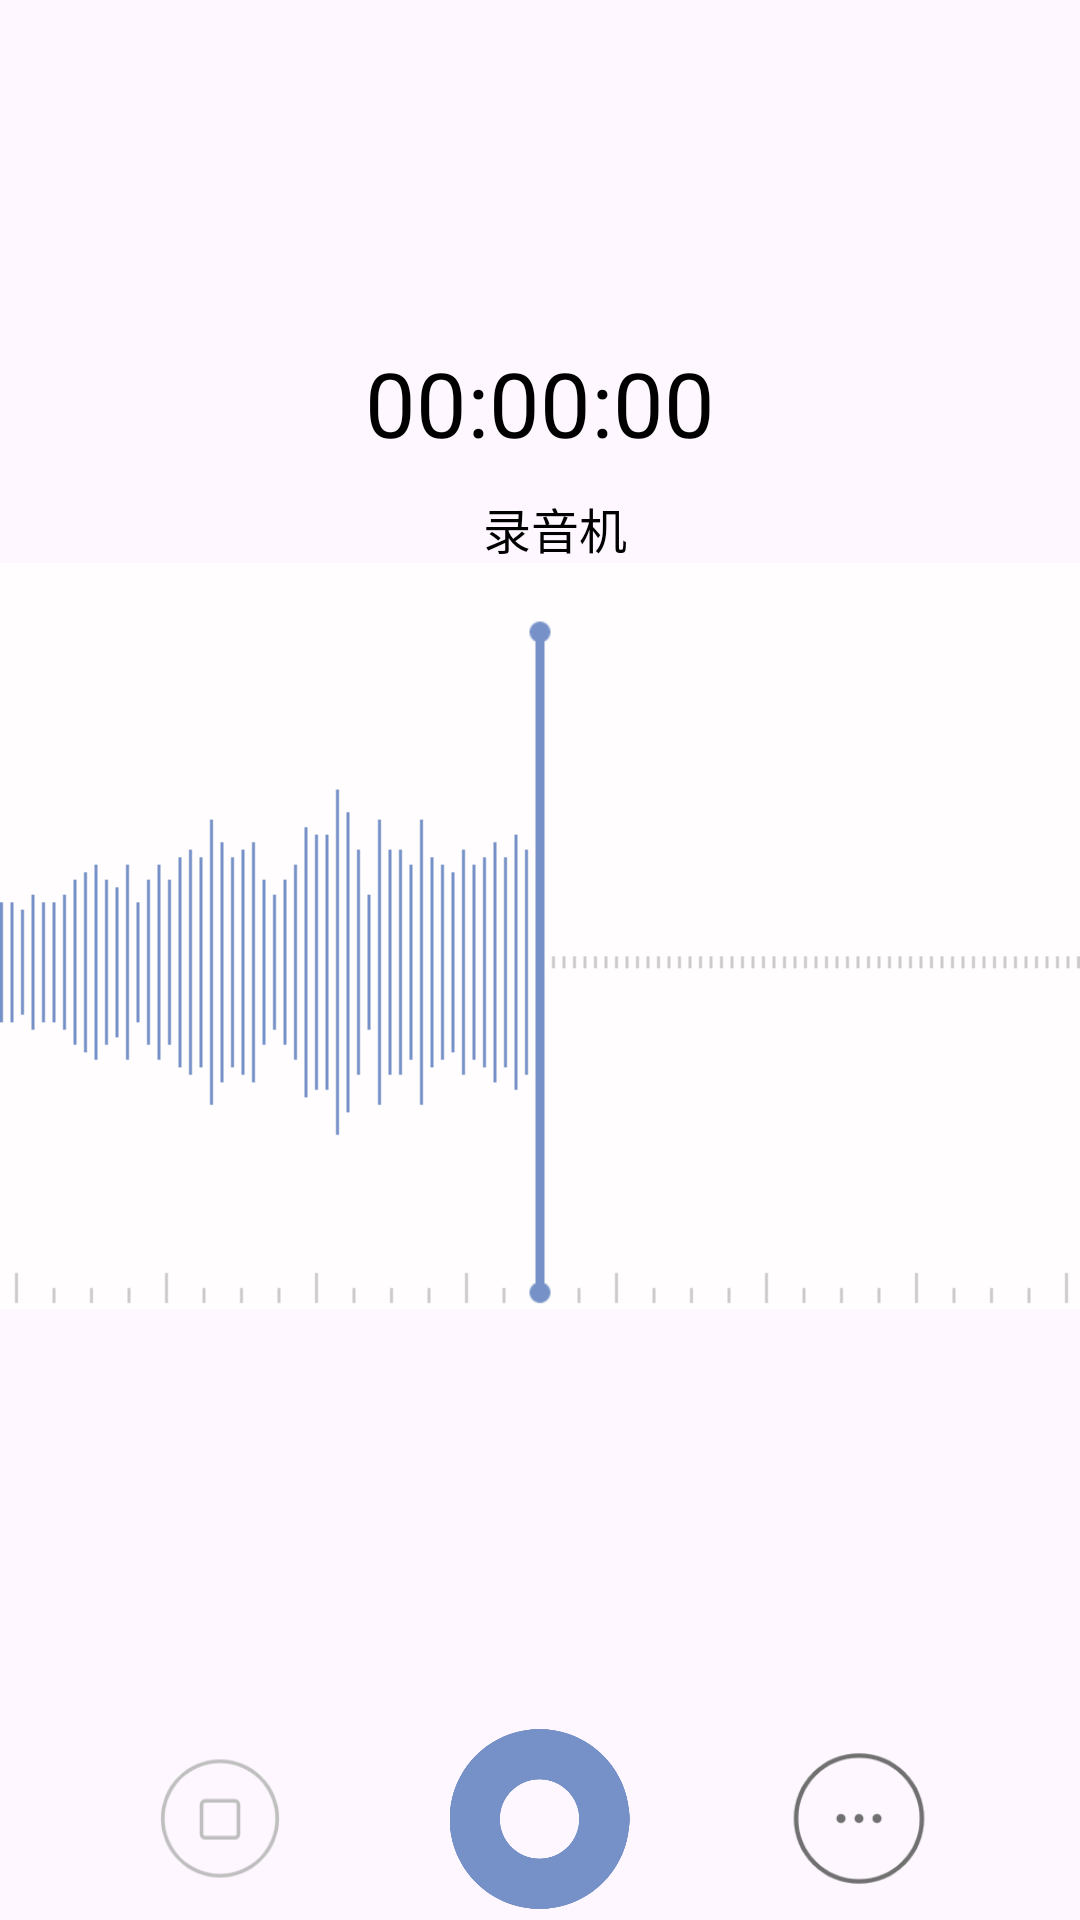

Screen size 1080*1920. Icon name, then its center in pixels as (x=x, y=y):
more checkable: (x=859, y=1818)
start: (x=540, y=1819)
stop uncheckable: (x=220, y=1818)
